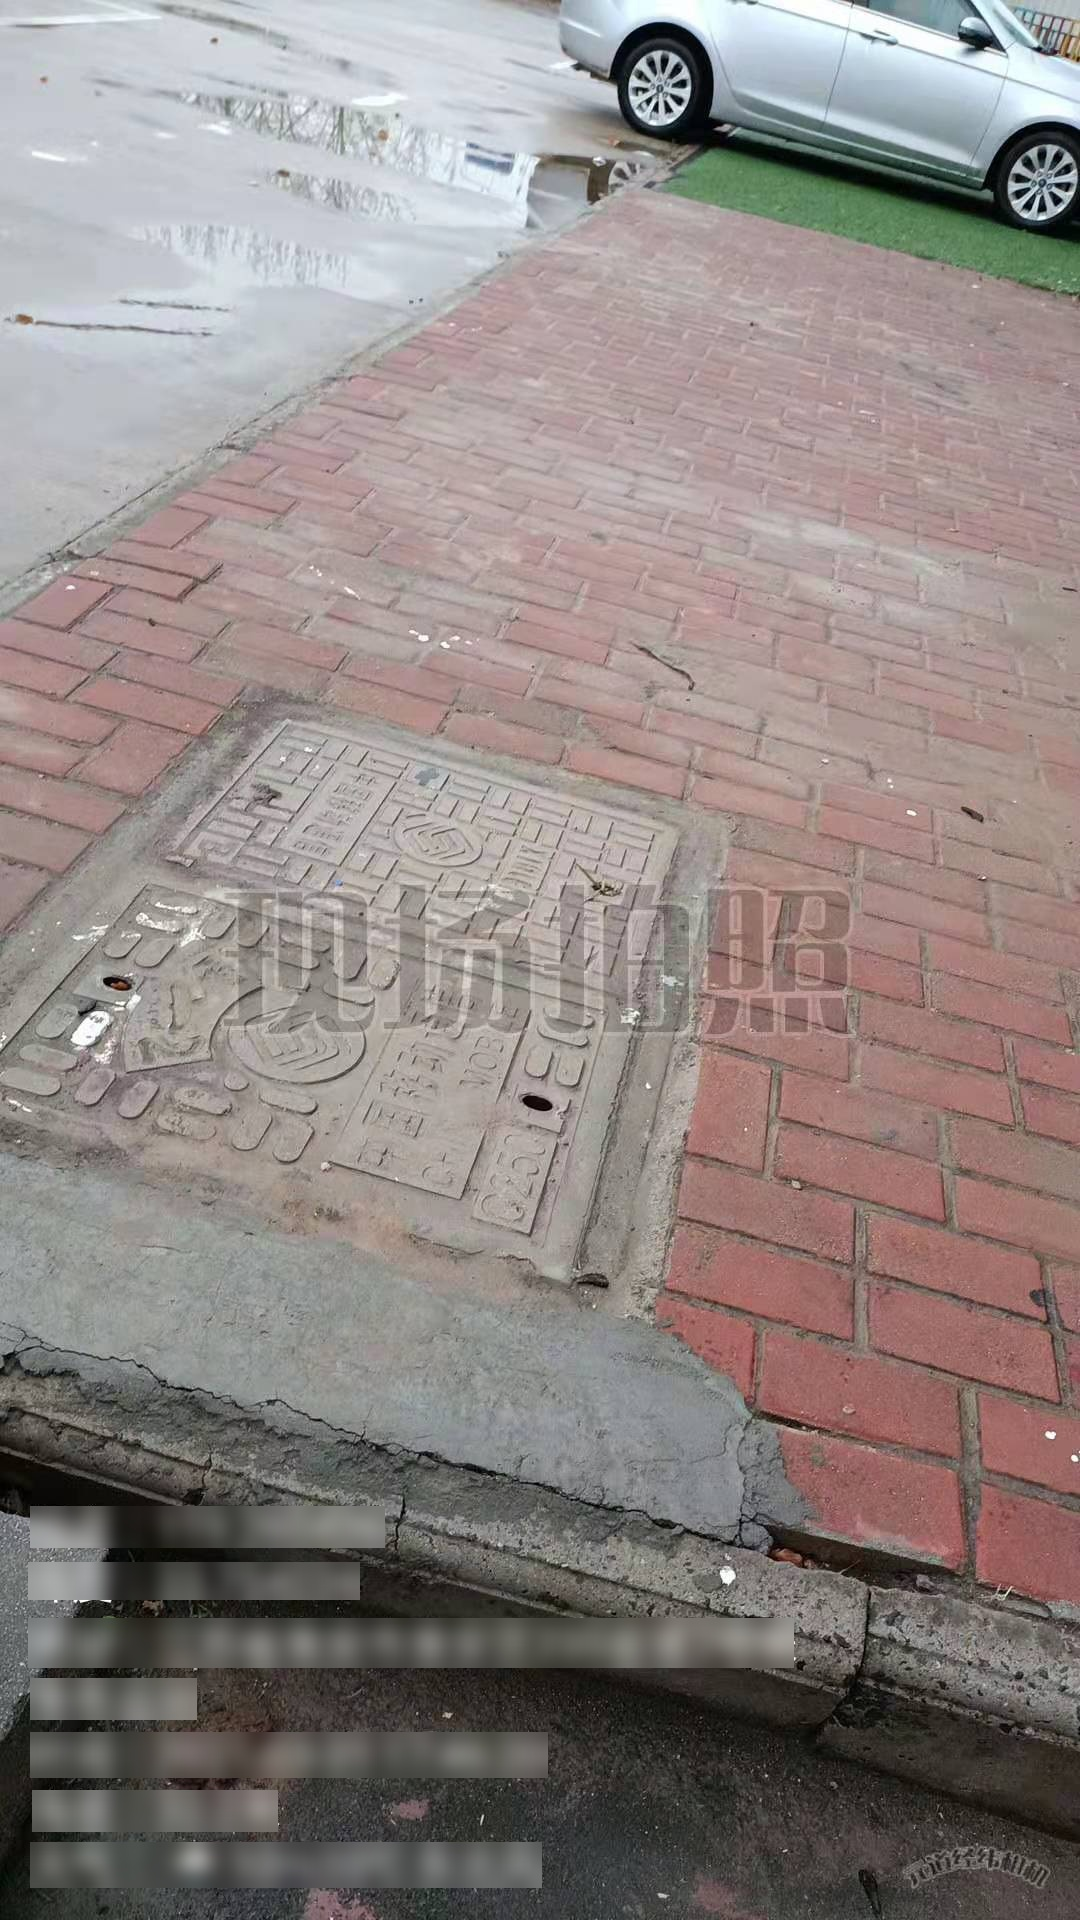good: (4, 705, 707, 1294)
